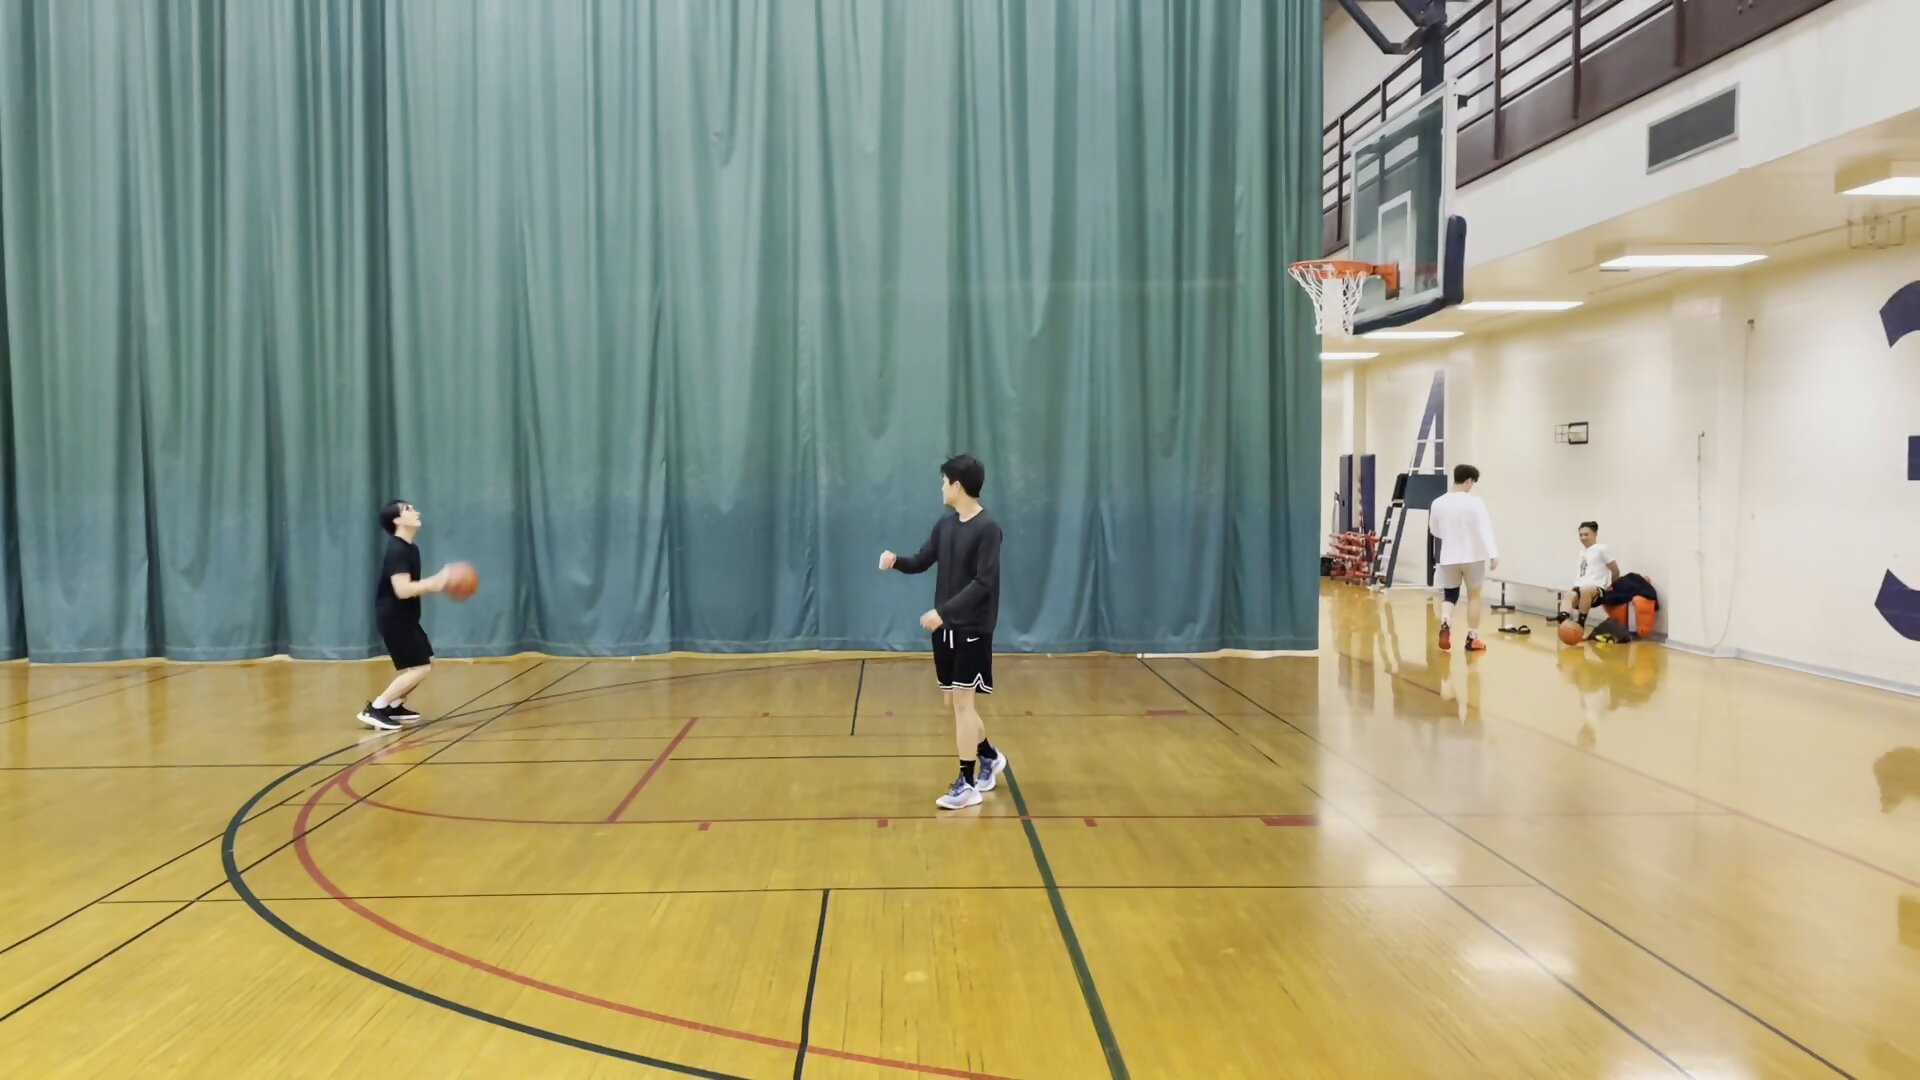ball: (445, 560, 482, 602), (1555, 621, 1591, 649)
net: (1306, 312, 1364, 344)
player: (879, 453, 1015, 812), (355, 496, 445, 734), (1429, 462, 1497, 654), (1554, 519, 1621, 631)
rim: (1286, 254, 1378, 279)
